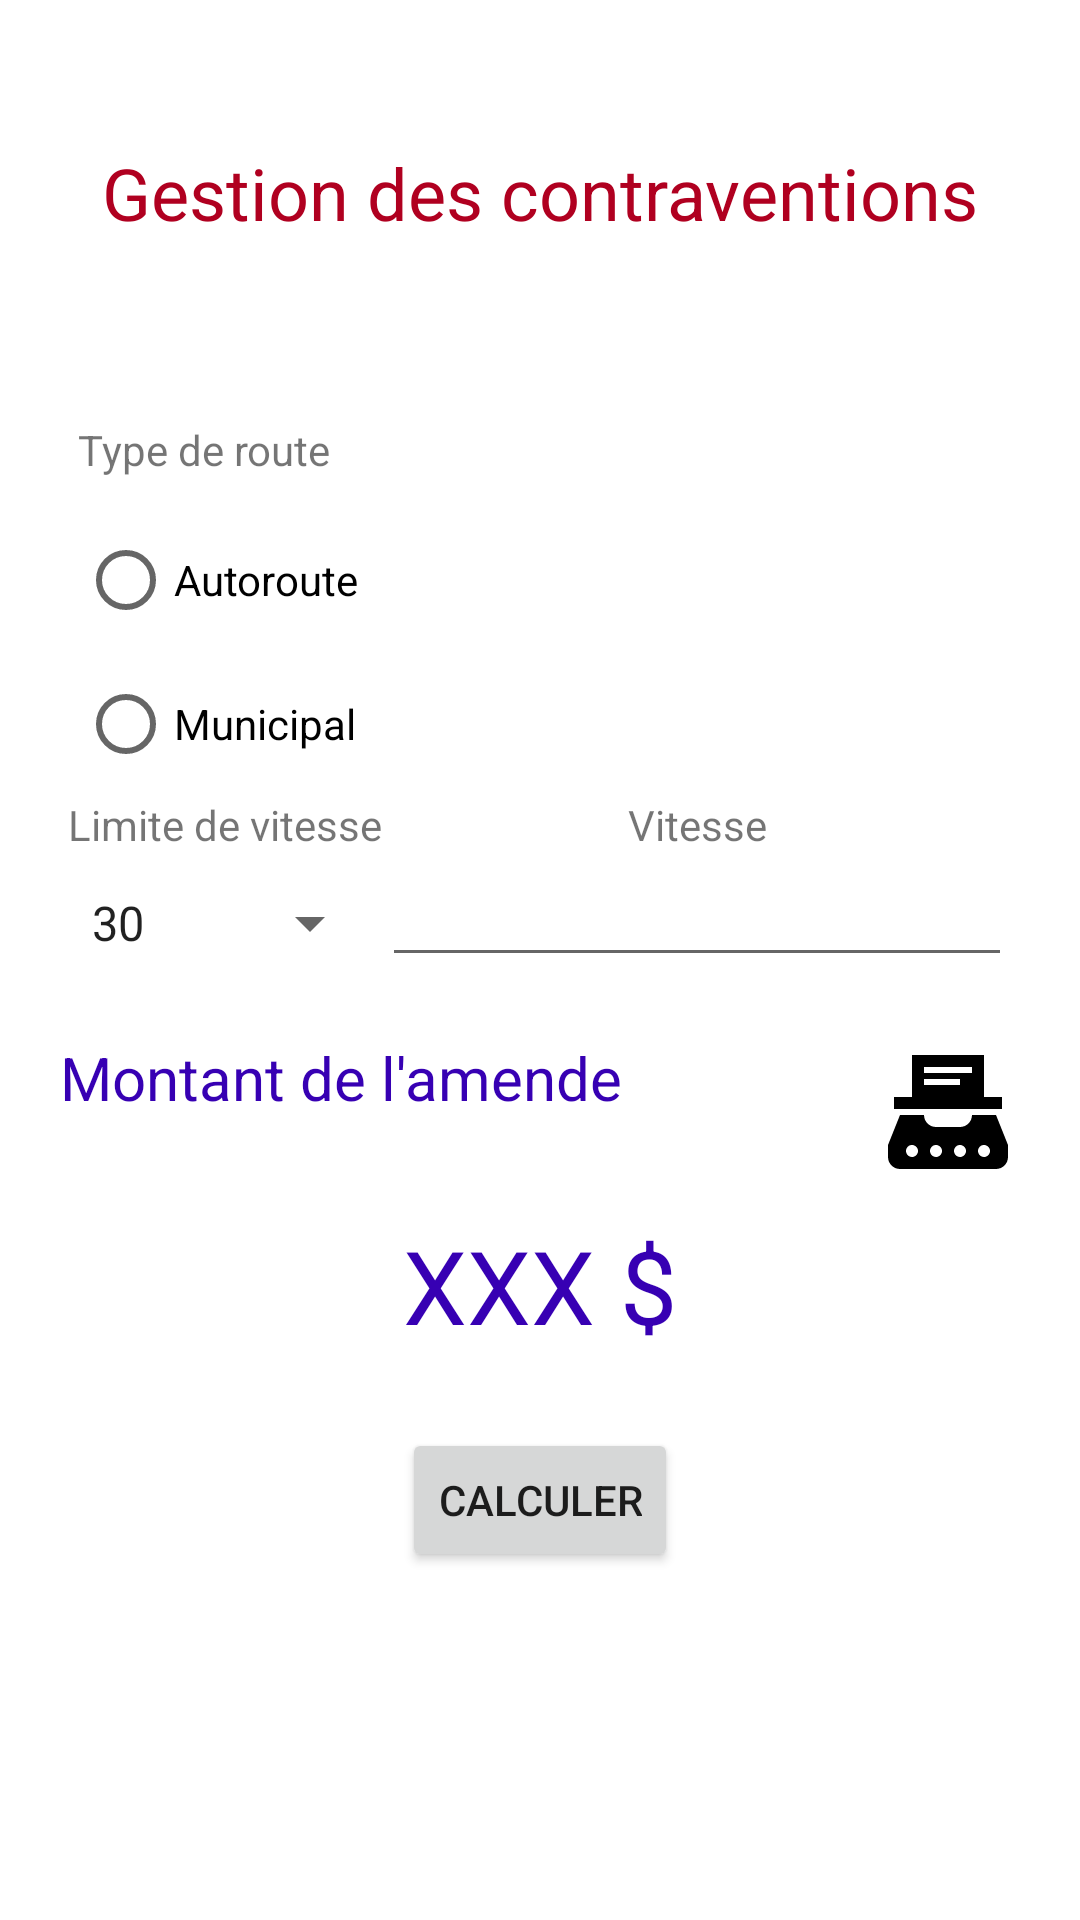

Icons on this 1080 × 1920 Android screen, each with the point to tap as [x,y]:
typewriter: [948,1112]
